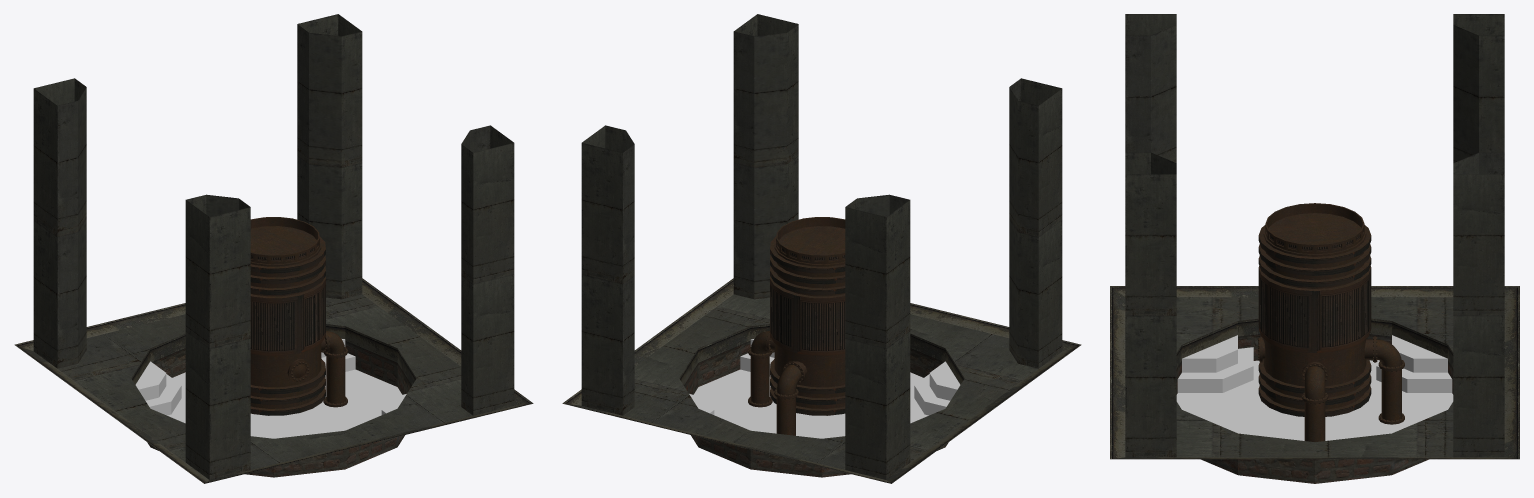
The model's file is structure_piece_rg_1.fbx.
3 renders of one model, left to right at view 1: azimuth 30°, elevation 25°; view 2: azimuth 150°, elevation 25°; view 3: azimuth 270°, elevation 25°, orthographic. The views are drawn at different scales.
Visible parts, largest first — view 1: structure_piece_rg_1, boiler_hx_1; view 2: structure_piece_rg_1, boiler_hx_1; view 3: structure_piece_rg_1, boiler_hx_1.
Part boxes in pixels (bbox=[...]): structure_piece_rg_1: bbox=[14, 14, 533, 483]; boiler_hx_1: bbox=[250, 217, 347, 415]; structure_piece_rg_1: bbox=[562, 14, 1081, 483]; boiler_hx_1: bbox=[748, 217, 845, 435]; structure_piece_rg_1: bbox=[1110, 14, 1519, 483]; boiler_hx_1: bbox=[1258, 203, 1404, 441].
Size of the model in its own units: 8 by 8 by 7.
